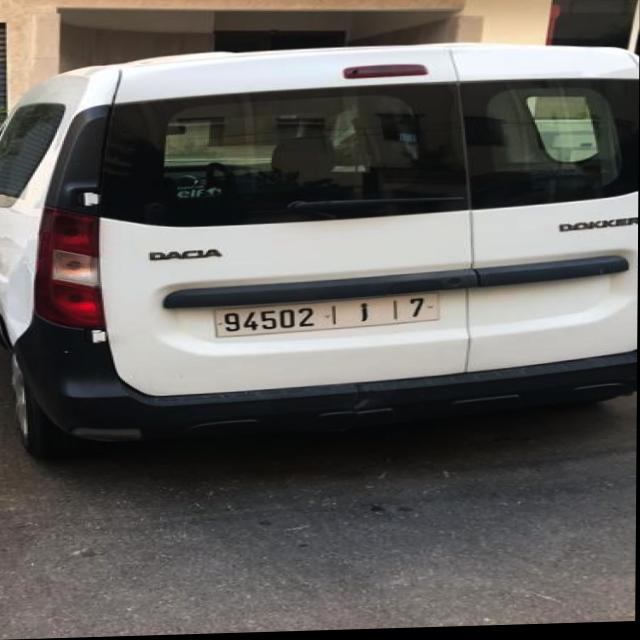License-Plate: (216, 296, 438, 339)
